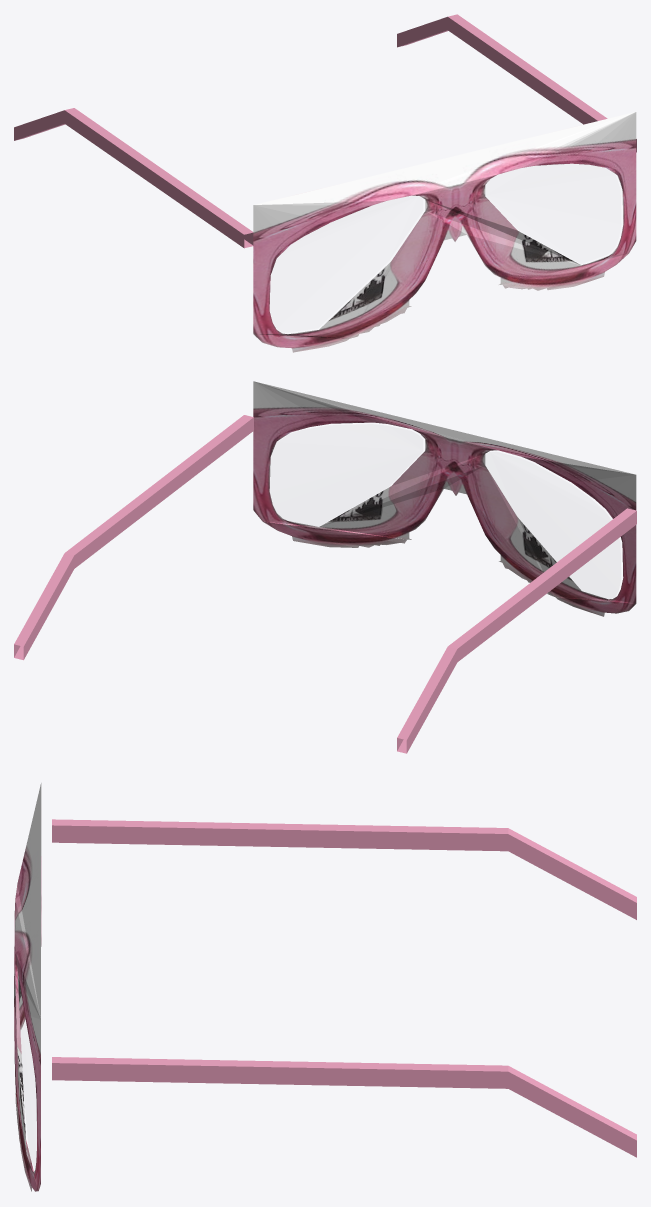
The model's file is gothamstyle-197_lilac.glb.
3 views of the same model, one above another, from view 1: azimuth 30°, elevation 25°; view 2: azimuth 150°, elevation 25°; view 3: azimuth 270°, elevation 25° (orthographic). The views are drawn at different scales.
Parts seen in each view (by area): view 1: frame_front, temple_viewer_left, temple_viewer_right; view 2: frame_front, temple_viewer_left, temple_viewer_right; view 3: temple_viewer_right, temple_viewer_left, frame_front.
Boxes of the visible parts, x1,y1,x2,y2 form: frame_front: (253,112,636,352); temple_viewer_left: (14,108,253,248); temple_viewer_right: (397,14,636,152); frame_front: (253,381,636,616); temple_viewer_left: (397,508,636,753); temple_viewer_right: (14,415,253,660); temple_viewer_right: (52,1057,636,1157); temple_viewer_left: (52,819,636,919); frame_front: (14,783,41,1191).
Size of the model in its own units: 0.1212 by 0.0453 by 0.131.
Materials: 3 (2 with a texture image).
